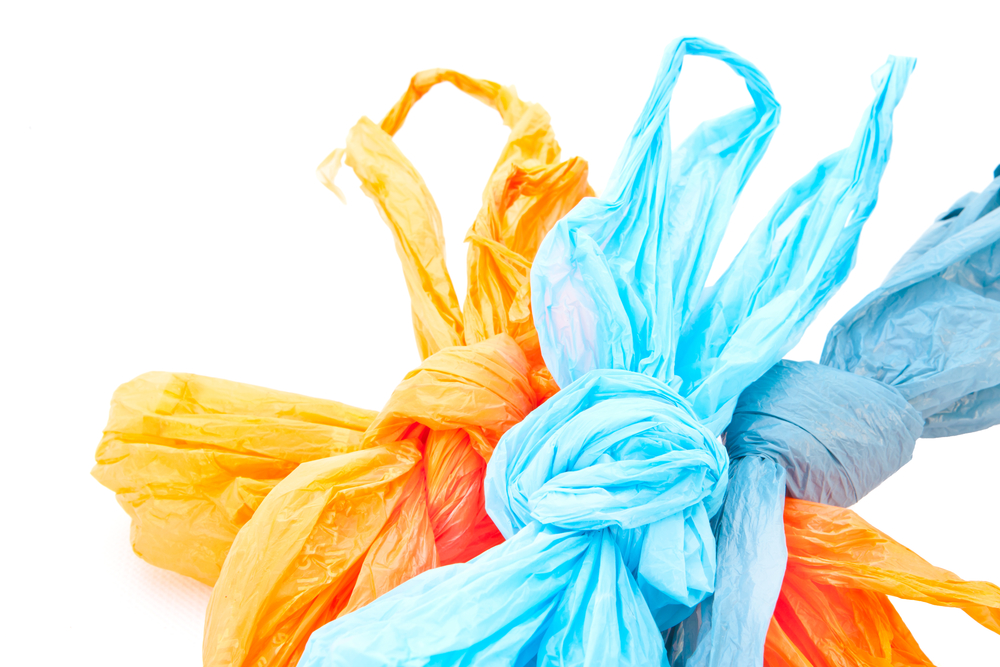plastic_bagwdw: (272, 23, 956, 667), (74, 37, 707, 667), (662, 83, 999, 667)
